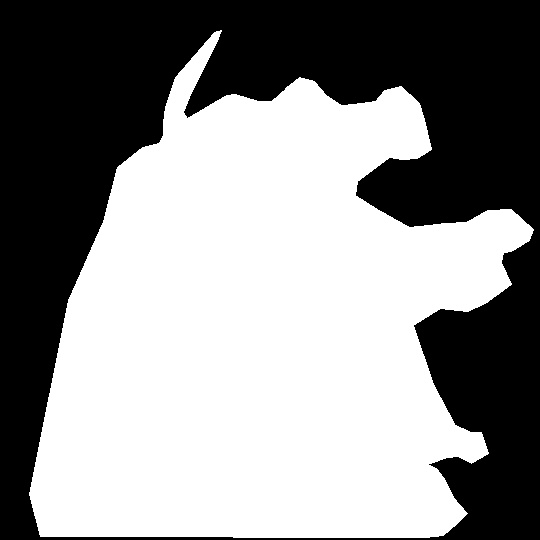Fire: (29, 93, 460, 540)
